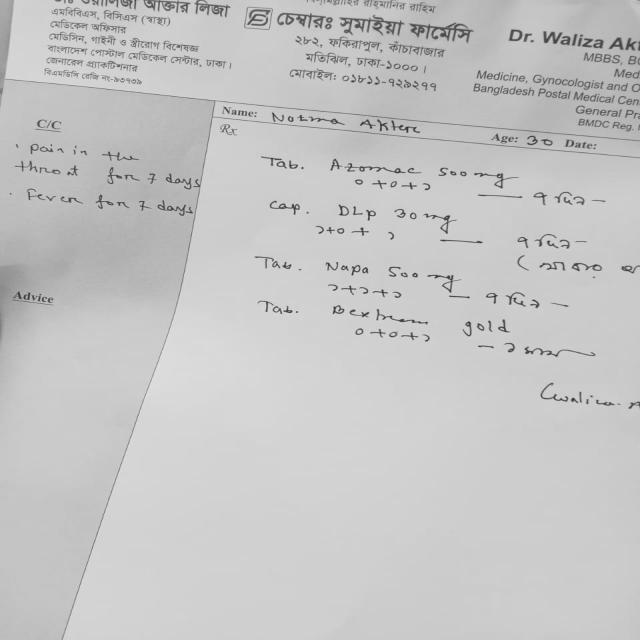medicine: (326, 302, 512, 334), (324, 154, 426, 178), (318, 256, 377, 278), (331, 202, 385, 222)
